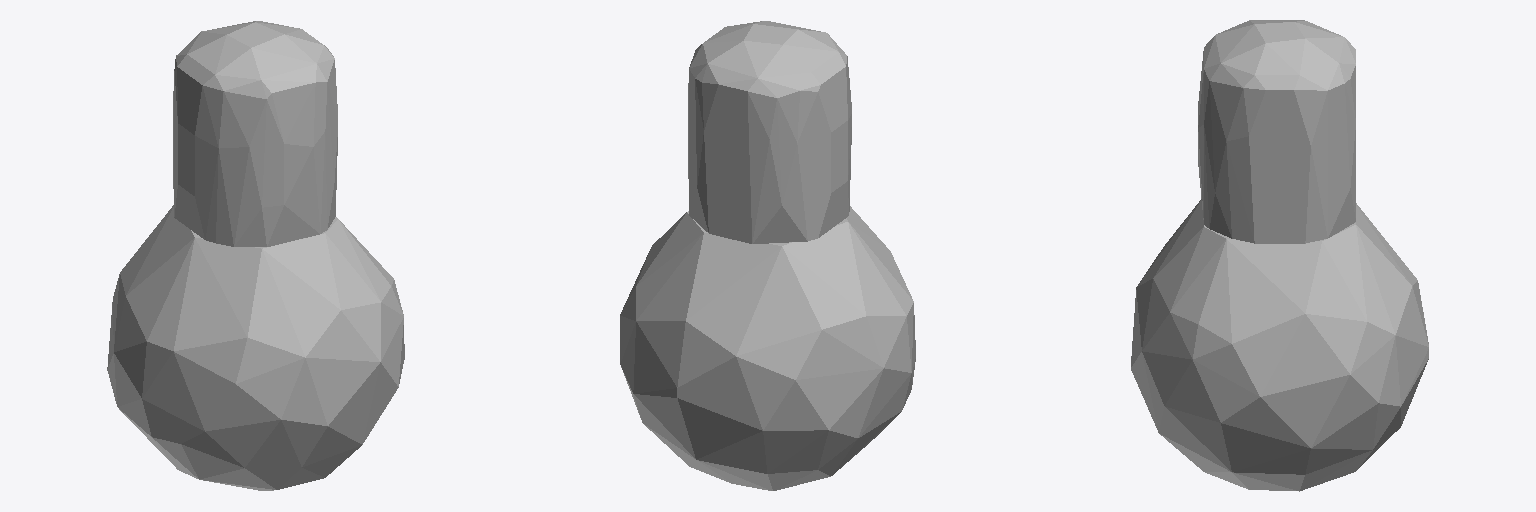
URDF robot description (root):
<robot name="root">
  <link name="link_b8de0d8a934963ee35836c728d324152_convex_piece_0">
    <inertial>
      <origin rpy="0 0 0" xyz="0 0 0"/>
      <mass value="4.58E-05"/>
      <inertia ixx="1.65E-08" ixy="1.76E-11" ixz="8.83E-12" iyy="1.66E-08" iyz="2.54E-11" izz="9.56E-09"/>
    </inertial>
    <visual>
      <origin rpy="0 0 0" xyz="0 0 0"/>
      <geometry>
        <mesh filename="b8de0d8a934963ee35836c728d324152_convex_piece_0.obj" scale="1.0000E+00"/>
      </geometry>
      <material name="">
        <color rgba="7.50E-01 7.50E-01 7.50E-01 1"/>
      </material>
    </visual>
    <collision>
      <origin rpy="0 0 0" xyz="0 0 0"/>
      <geometry>
        <mesh filename="b8de0d8a934963ee35836c728d324152_convex_piece_0.obj" scale="1.0000E+00"/>
      </geometry>
    </collision>
  </link>
  <link name="link_b8de0d8a934963ee35836c728d324152_convex_piece_1">
    <inertial>
      <origin rpy="0 0 0" xyz="0 0 0"/>
      <mass value="1.24E-05"/>
      <inertia ixx="6.43E-09" ixy="-5.75E-13" ixz="-1.00E-11" iyy="6.43E-09" iyz="-1.22E-11" izz="9.42E-10"/>
    </inertial>
    <visual>
      <origin rpy="0 0 0" xyz="0 0 0"/>
      <geometry>
        <mesh filename="b8de0d8a934963ee35836c728d324152_convex_piece_1.obj" scale="1.0000E+00"/>
      </geometry>
      <material name="">
        <color rgba="7.50E-01 7.50E-01 7.50E-01 1"/>
      </material>
    </visual>
    <collision>
      <origin rpy="0 0 0" xyz="0 0 0"/>
      <geometry>
        <mesh filename="b8de0d8a934963ee35836c728d324152_convex_piece_1.obj" scale="1.0000E+00"/>
      </geometry>
    </collision>
  </link>
  <joint name="link_b8de0d8a934963ee35836c728d324152_convex_piece_1_joint" type="fixed">
    <origin rpy="0 0 0" xyz="0 0 0"/>
    <parent link="link_b8de0d8a934963ee35836c728d324152_convex_piece_0"/>
    <child link="link_b8de0d8a934963ee35836c728d324152_convex_piece_1"/>
  </joint>
</robot>

--- Facts derived from the render (not from the file) ---
Views: 3 orthographic renders of the robot side by side, from view 1: azimuth 30°, elevation 25°; view 2: azimuth 150°, elevation 25°; view 3: azimuth 270°, elevation 25°.
Model root with 2 links and 1 joints (1 fixed), rooted at link_b8de0d8a934963ee35836c728d324152_convex_piece_0, posed all joints at 0.
Links seen in each view (by area): view 1: link_b8de0d8a934963ee35836c728d324152_convex_piece_0, link_b8de0d8a934963ee35836c728d324152_convex_piece_1; view 2: link_b8de0d8a934963ee35836c728d324152_convex_piece_0, link_b8de0d8a934963ee35836c728d324152_convex_piece_1; view 3: link_b8de0d8a934963ee35836c728d324152_convex_piece_0, link_b8de0d8a934963ee35836c728d324152_convex_piece_1.
Boxes of the visible links, x1,y1,x2,y2 form: link_b8de0d8a934963ee35836c728d324152_convex_piece_0: (107,205,404,490); link_b8de0d8a934963ee35836c728d324152_convex_piece_1: (173,21,337,246); link_b8de0d8a934963ee35836c728d324152_convex_piece_0: (620,206,915,490); link_b8de0d8a934963ee35836c728d324152_convex_piece_1: (688,21,851,243); link_b8de0d8a934963ee35836c728d324152_convex_piece_0: (1131,199,1428,491); link_b8de0d8a934963ee35836c728d324152_convex_piece_1: (1198,20,1355,243).
Size in the robot's own frame: 0.0462 by 0.0462 by 0.0758 metres.
Meshes: 2 distinct files referenced, 2 mesh visuals loaded (2 OBJ).